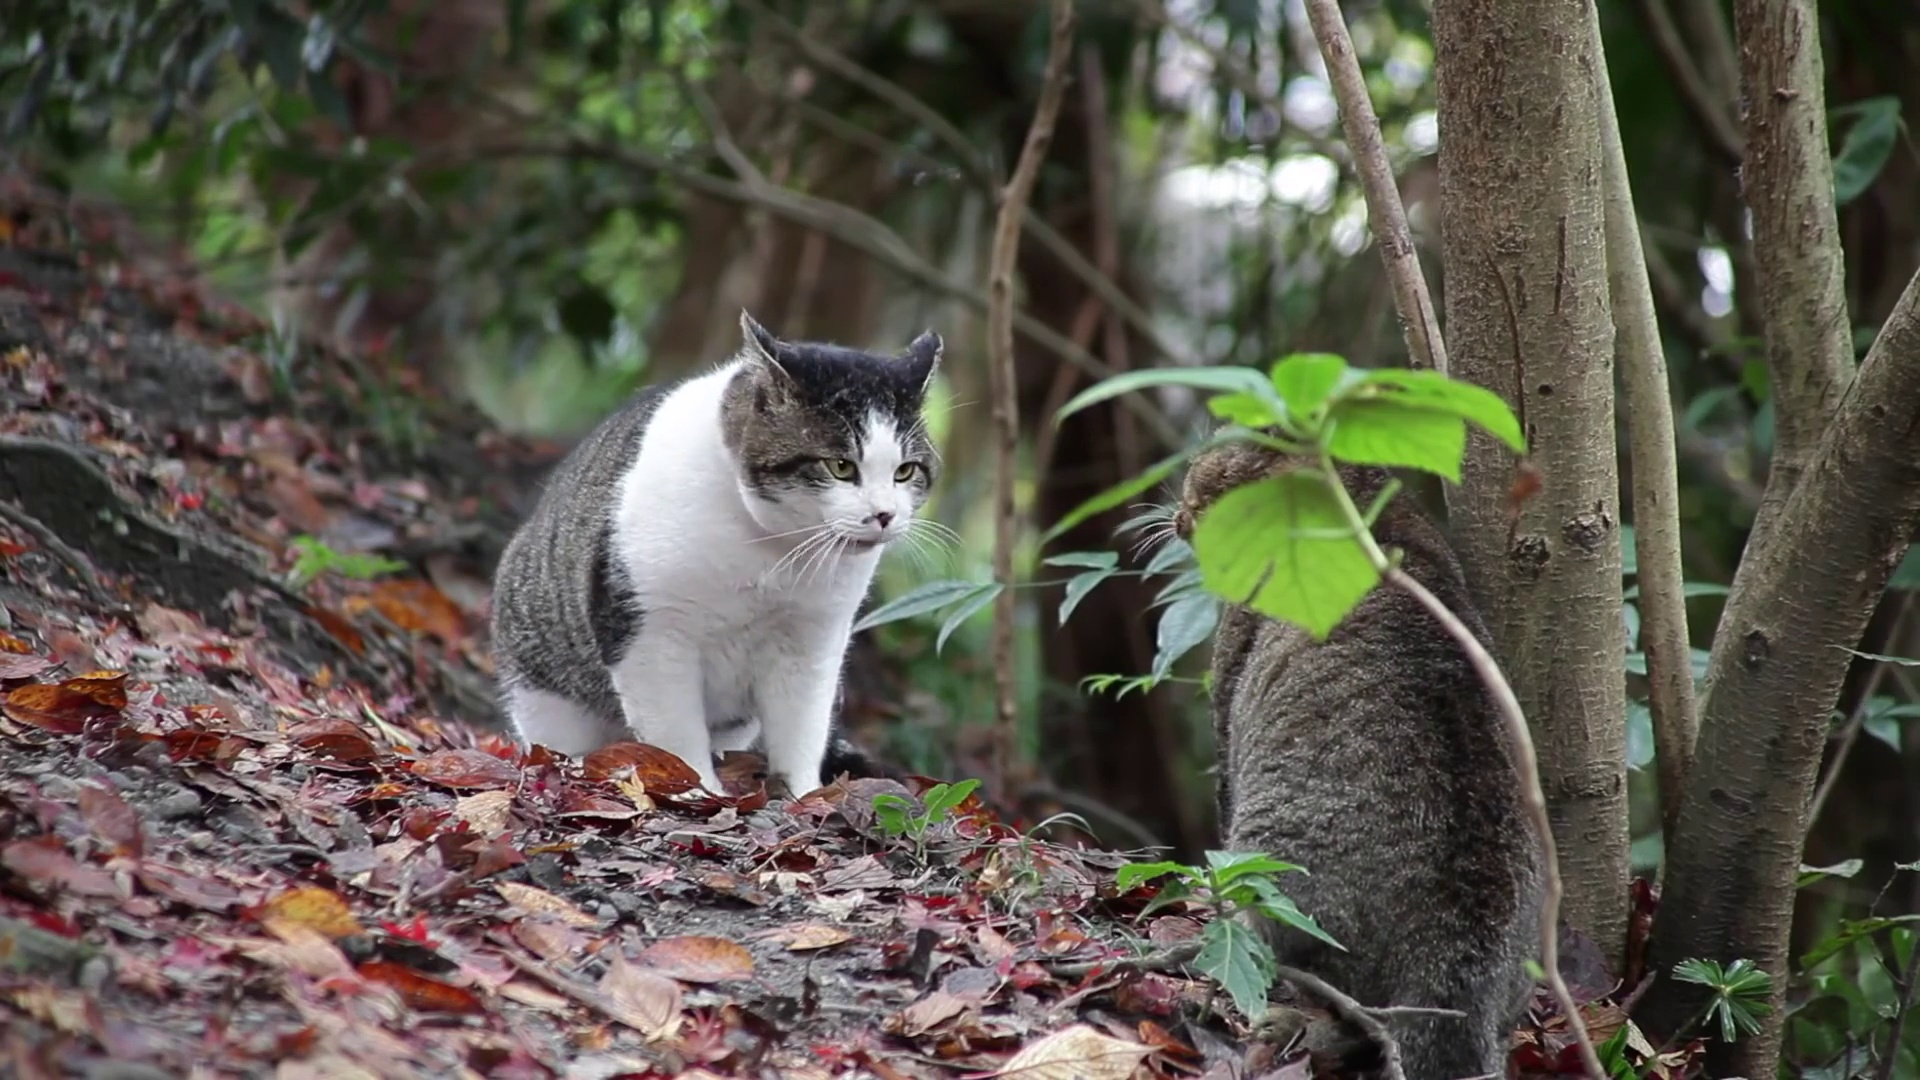black-white: (485, 309, 944, 804)
pure black: (1172, 425, 1560, 1043)
